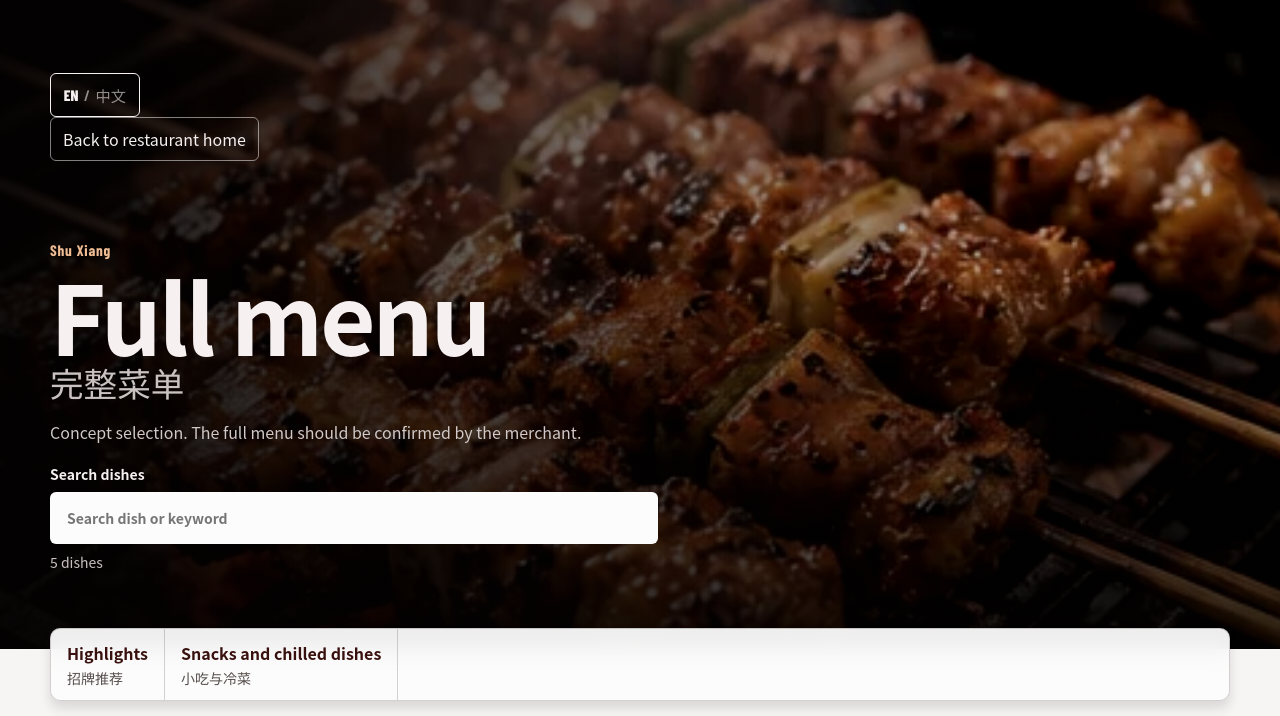
App routes › shows a friendly empty state when menu search has no matches
Step 1. Type "not on menu" into the search field → (354, 518), box [50, 492, 658, 544]
(page scrolled)
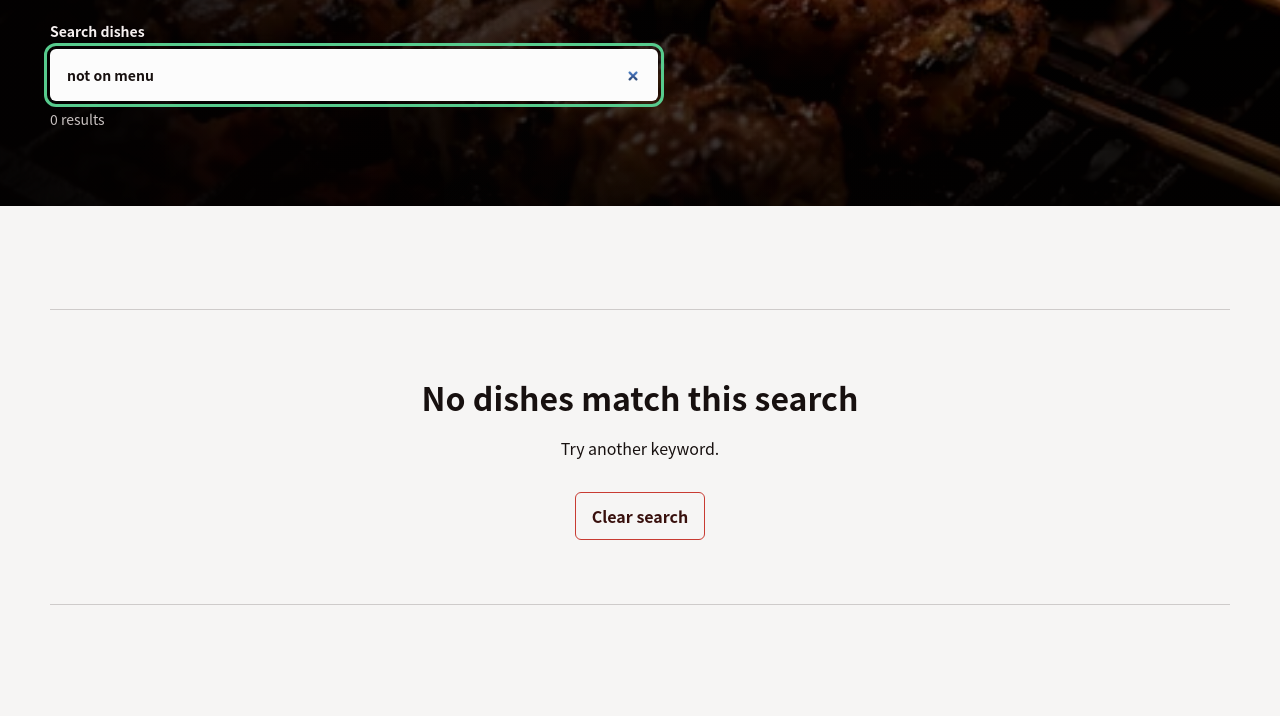
Expected: the heading "No dishes match this search" is shown, [422, 374, 858, 420]
